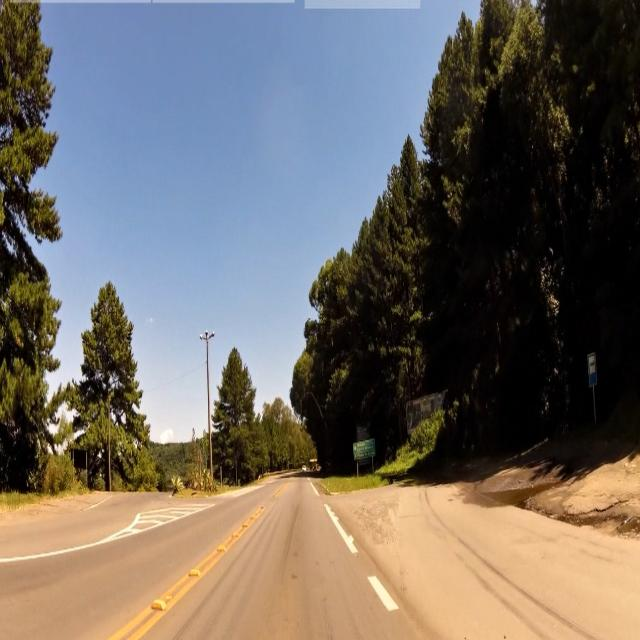I-4: (355, 437, 375, 457)
